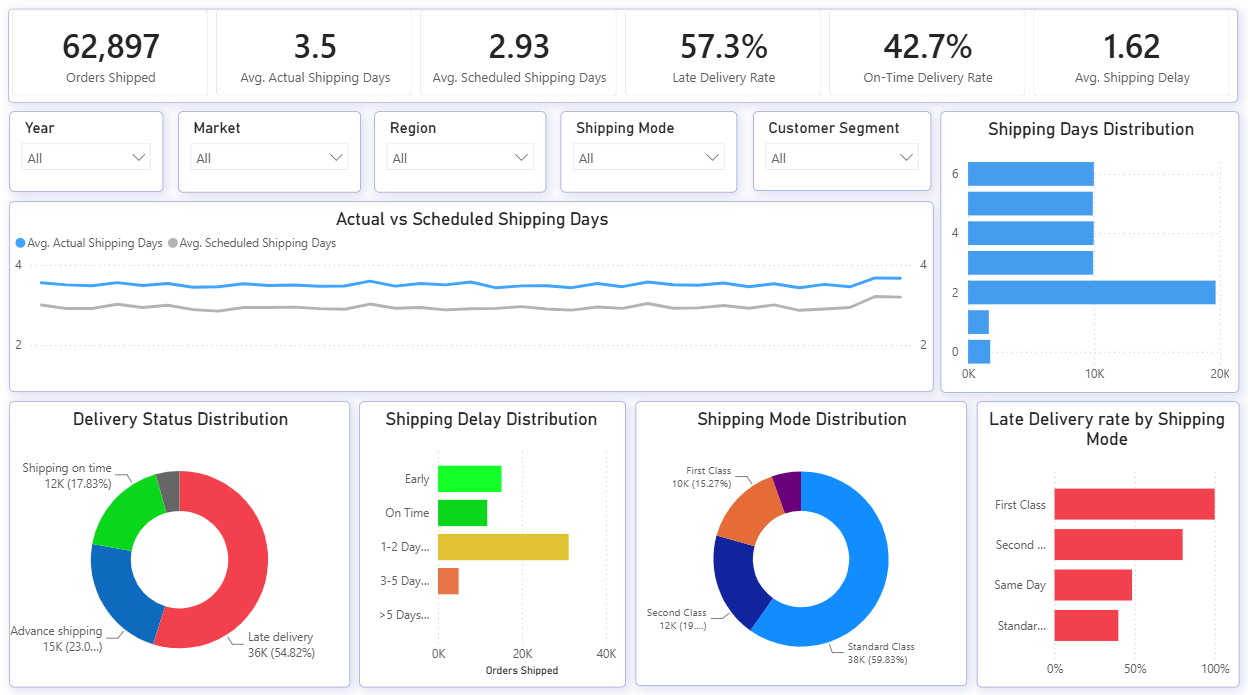

What the dashboard file says about the page in this screenshot:
{"tool":"powerbi","page":{"name":"Shipment Performance","canvas":[1280,720],"ordinal":3},"visuals":[{"type":"cardVisual","fields":{"Data":["_Measures.Total Orders Shipped","_Measures.Average Actual Shipping Days","_Measures.Average Scheduled Shipping Days","_Measures.Late Delivery Rate","_Measures.On-Time Delivery Rate","_Measures.Avg. Shipping Delay"]},"box":[10.5,13.5,1258.7,96.1],"z":0},{"type":"lineChart","title":"Actual vs Scheduled Shipping Days","fields":{"Category":["DimDate.Month-Year"],"Y":["_Measures.Average Actual Shipping Days"],"Y2":["_Measures.Average Scheduled Shipping Days"]},"box":[11.2,211.2,945.4,195.2],"z":1000},{"type":"donutChart","title":"Delivery Status Distribution","fields":{"Category":["DimShipping.Delivery Status"],"Y":["_Measures.Total Orders"]},"box":[11.2,415.9,348.7,292.7],"z":2000},{"type":"clusteredBarChart","title":"Late Delivery rate by Shipping Mode ","fields":{"Category":["DimShipping.Shipping Mode"],"Y":["_Measures.Late Delivery Rate"]},"box":[1001.2,415.3,268.8,293],"z":3000},{"type":"clusteredBarChart","title":"Shipping Delay Distribution","fields":{"Category":["Delay Bucket.Delay bucket"],"Y":["_Measures.Late Deliveries (Display)"]},"box":[369.3,415.5,272.7,292.9],"z":4000},{"type":"clusteredBarChart","title":"Shipping Days Distribution","fields":{"Category":["Fact_OrderItems.Actual Shipping Days (bins)"],"Y":["_Measures.Orders Shipped"]},"box":[964.6,118.4,305.5,287.9],"z":5000},{"type":"slicer","fields":{"Values":["DimDate.Year"]},"box":[12,118.7,157.7,82.6],"z":6000},{"type":"slicer","fields":{"Values":["DimDestination.Market"]},"box":[184,118.4,187.2,83.2],"z":7000},{"type":"slicer","fields":{"Values":["DimShipping.Shipping Mode"]},"box":[575.9,118.4,180.8,83.2],"z":8000},{"type":"slicer","fields":{"Values":["DimCustomer.Customer Segment"]},"box":[772.6,118.4,182.4,81.6],"z":9000},{"type":"slicer","fields":{"Values":["DimDestination.Region"]},"box":[385.5,118.4,176,83.2],"z":10000},{"type":"donutChart","title":"Shipping Mode Distribution","fields":{"Category":["DimShipping.Shipping Mode"],"Y":["_Measures.Orders Shipped"]},"box":[652.1,415.5,339,291.4],"z":11000}]}

Visuals, with their boxes in screenshot pixels (x1, y1, x2, y2), scaled from the page's 1280x720 canvas onto the 1248x695 screenshot:
cardVisual - _Measures.Total Orders Shipped x _Measures.Average Actual Shipping Days: 10 13 1237 106
"Actual vs Scheduled Shipping Days" lineChart: 11 204 933 392
"Delivery Status Distribution" donutChart: 11 401 351 684
"Late Delivery rate by Shipping Mode " clusteredBarChart: 976 401 1238 684
"Shipping Delay Distribution" clusteredBarChart: 360 401 626 684
"Shipping Days Distribution" clusteredBarChart: 940 114 1238 392
slicer - DimDate.Year: 12 115 165 194
slicer - DimDestination.Market: 179 114 362 195
slicer - DimShipping.Shipping Mode: 562 114 738 195
slicer - DimCustomer.Customer Segment: 753 114 931 193
slicer - DimDestination.Region: 376 114 547 195
"Shipping Mode Distribution" donutChart: 636 401 966 682
